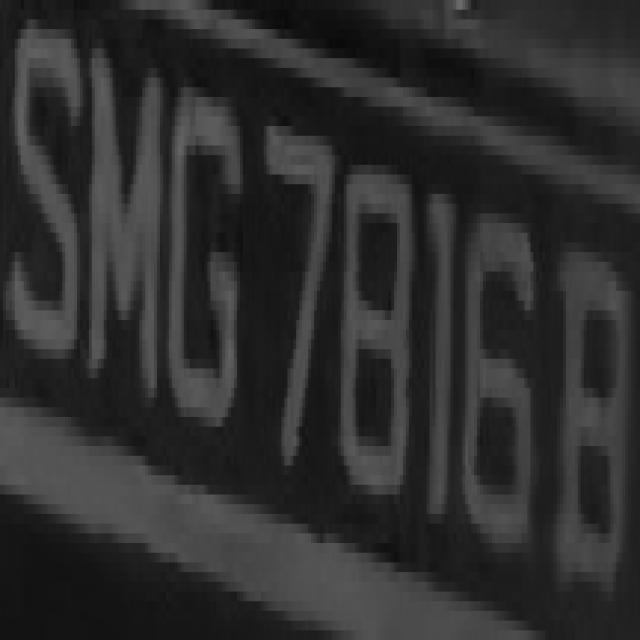1: (418, 126, 456, 572)
6: (456, 126, 534, 572)
7: (255, 58, 332, 504)
8: (332, 107, 418, 552)
B: (557, 194, 631, 611)
G: (160, 49, 240, 446)
M: (80, 20, 163, 398)
S: (12, 10, 86, 417)
